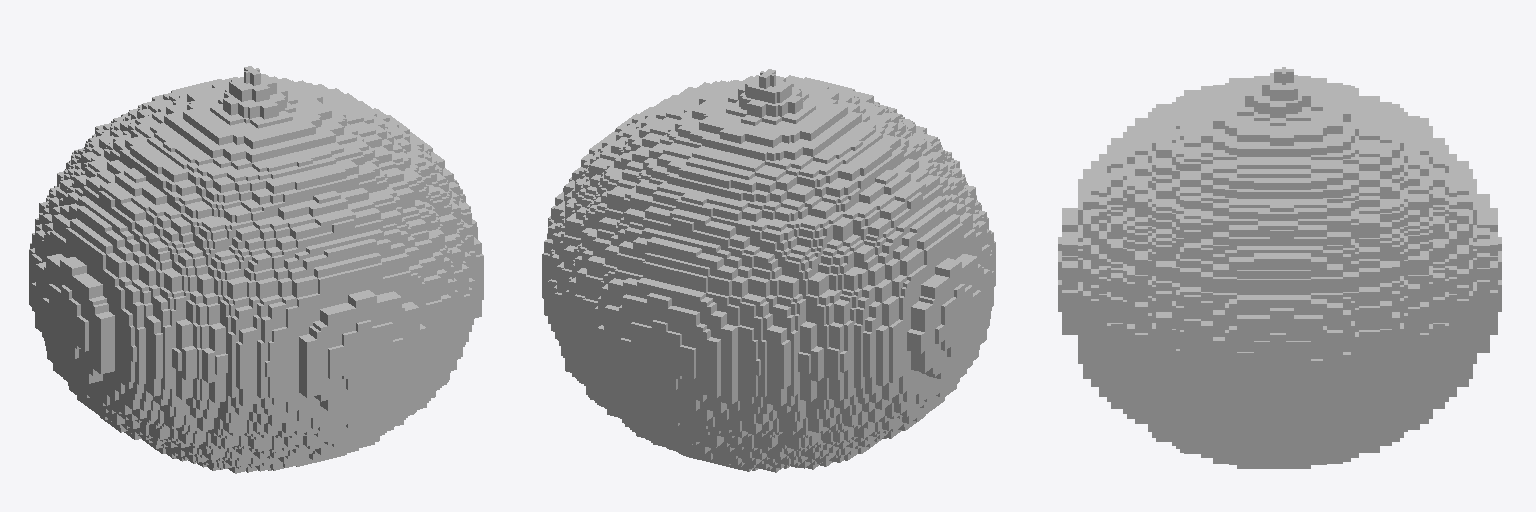
File: Cebolla.obj
The picture shows the model from 3 angles: view 1: azimuth 30°, elevation 25°; view 2: azimuth 150°, elevation 25°; view 3: azimuth 270°, elevation 25°; orthographic projection.
Parts seen in each view (by area): view 1: object 1; view 2: object 1; view 3: object 1.
Boxes of the visible parts, <box> form: object 1: <box>29,66,483,473</box>; object 1: <box>542,69,995,472</box>; object 1: <box>1058,67,1501,468</box>.
Bounding box in the file's own units: 10.9 × 10 × 10.9.